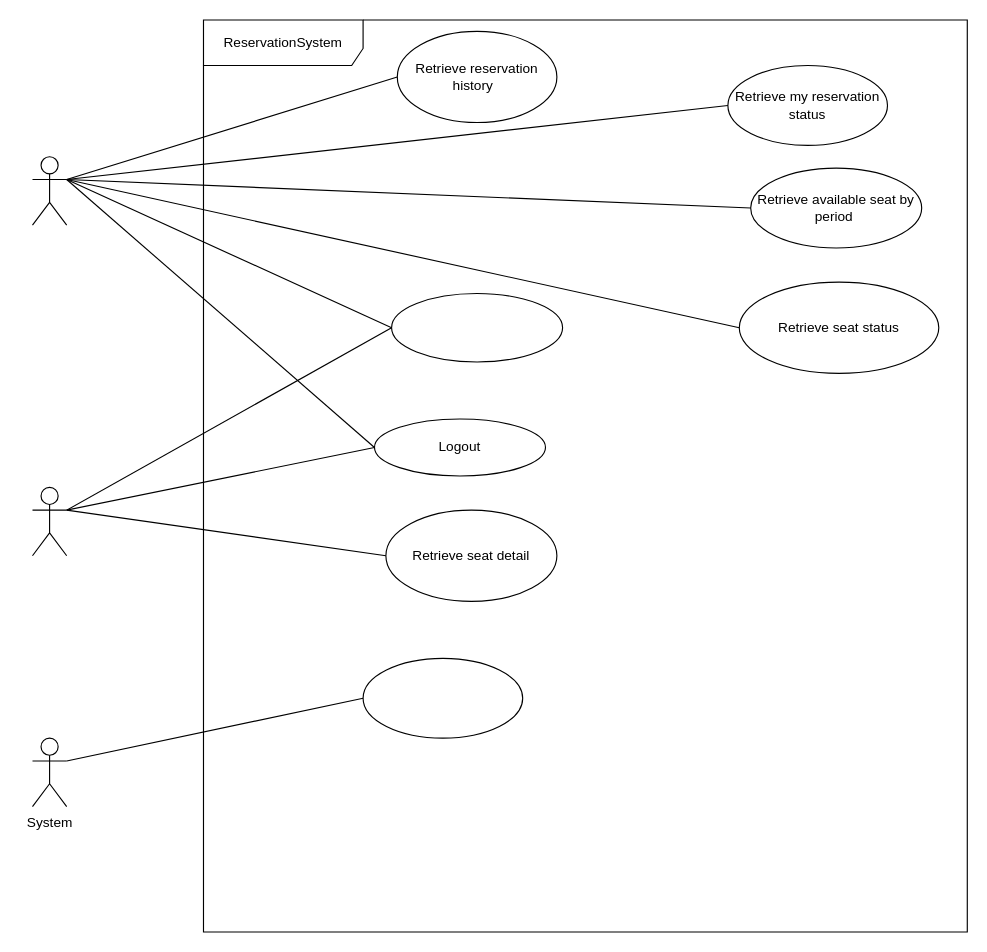
Image size: 987x952. Some labels were removed from this diagram. The shapes that lost their labels are listed below. From the top down, each one's centre as x and y in pixels, then its label:
At (49,190): "Employee".
At (476,327): "Login".
At (49,521): "Admin".
At (442,697): "Update status reservation".
